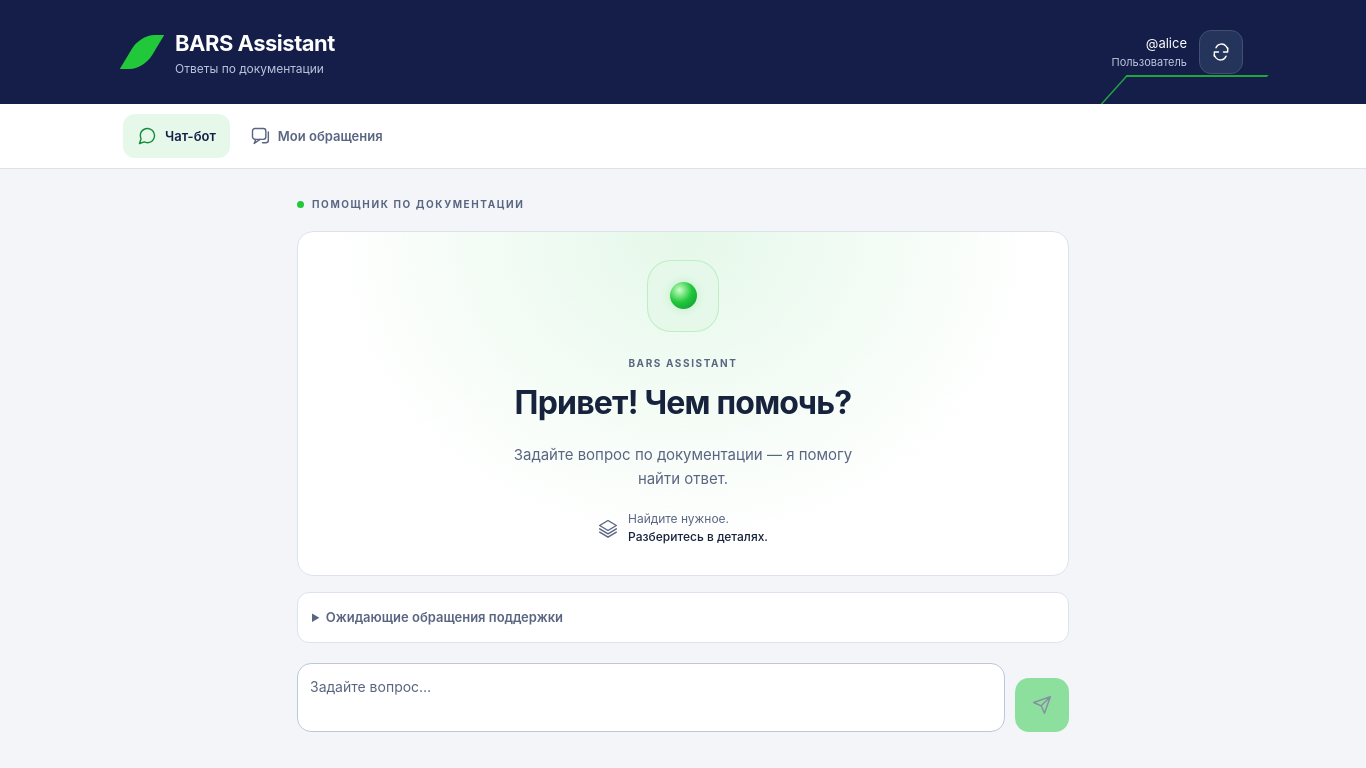
roles, text chat and request recovery › shows user screens, keeps upload disabled, sends only text and renders answer
Expected: the heading "Привет! Чем помочь?" is shown, left=515, top=383, right=851, bottom=423
In the text box named "Ваш вопрос": x=651, y=697 left=297, top=663, right=1005, bottom=732, type "How?"
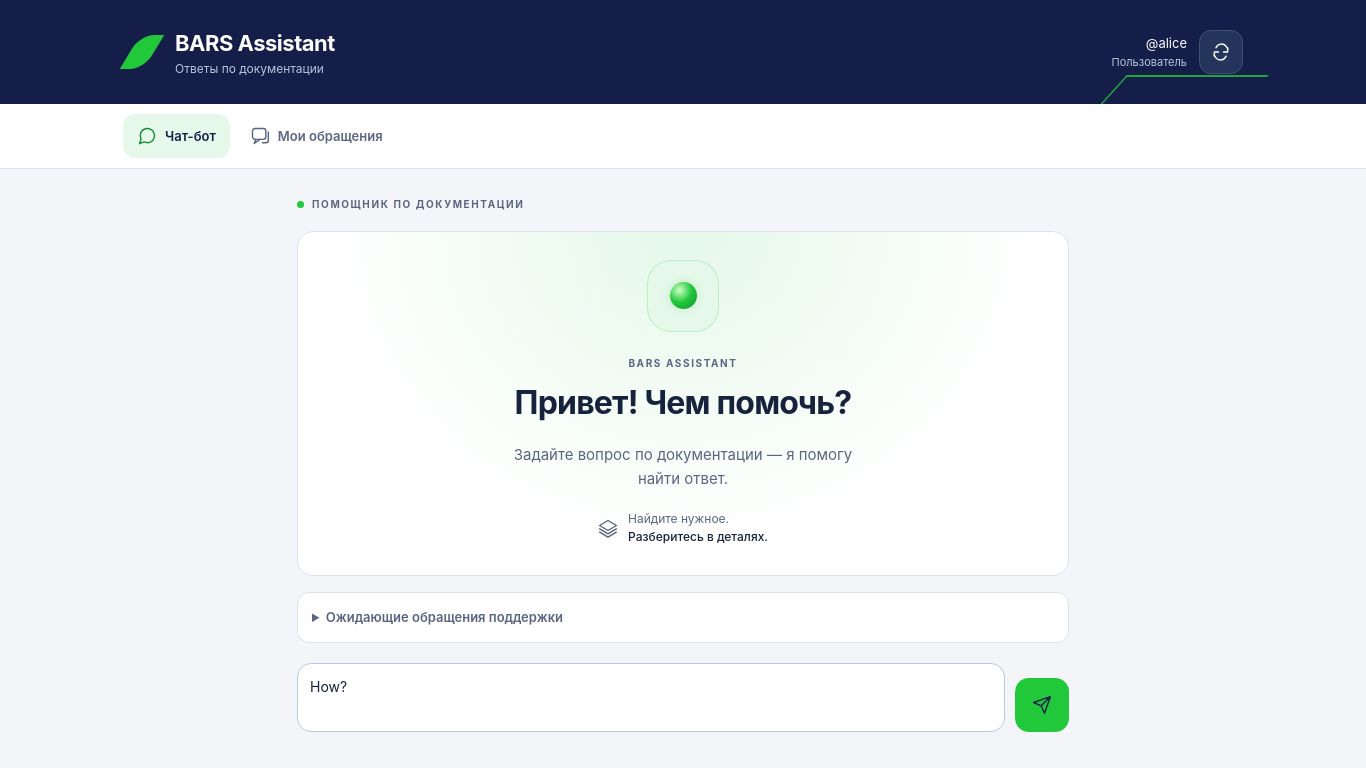
Click the button named "Отправить": x=1042, y=705 left=1015, top=678, right=1069, bottom=732
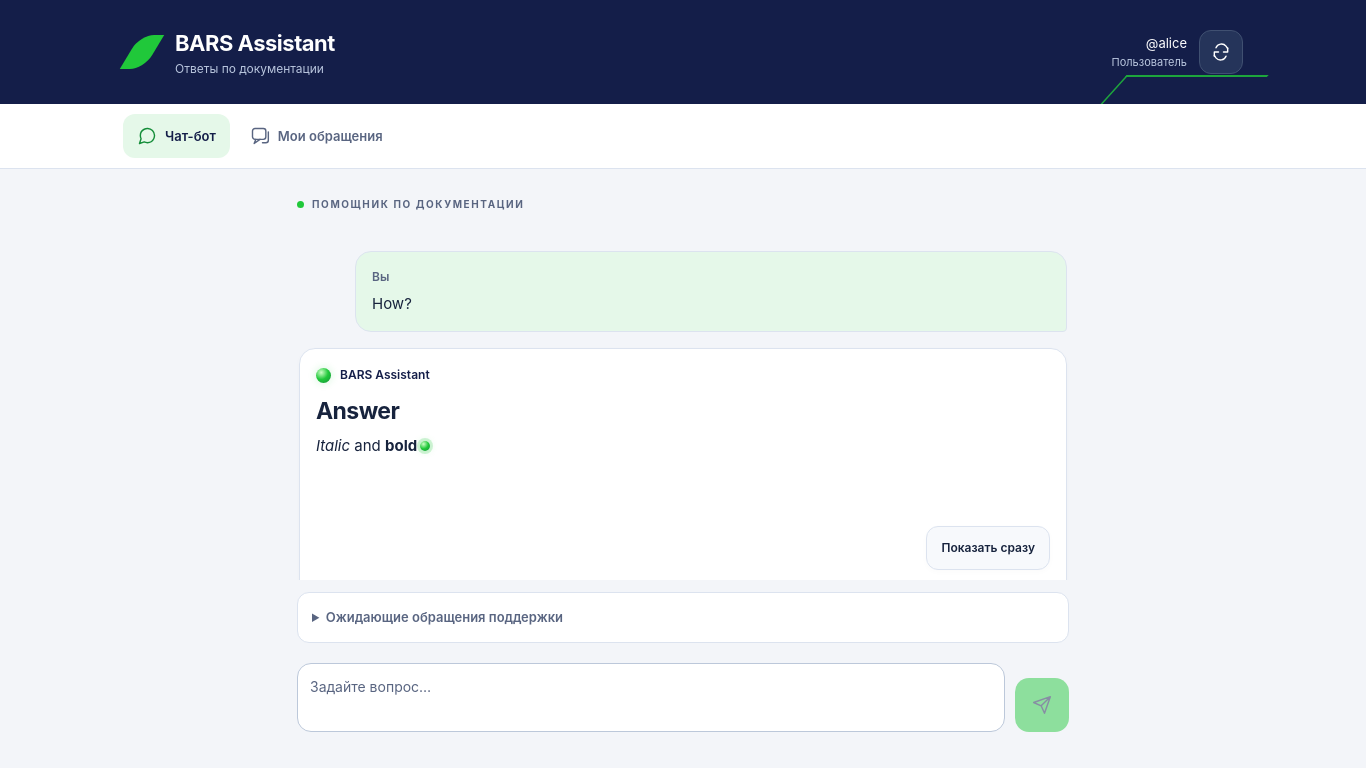
Now the heading "Answer" is shown, box left=316, top=397, right=399, bottom=425
